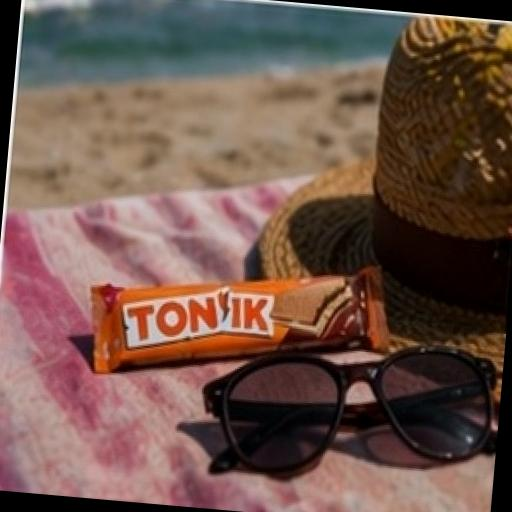tonik: (22, 159, 443, 459)
